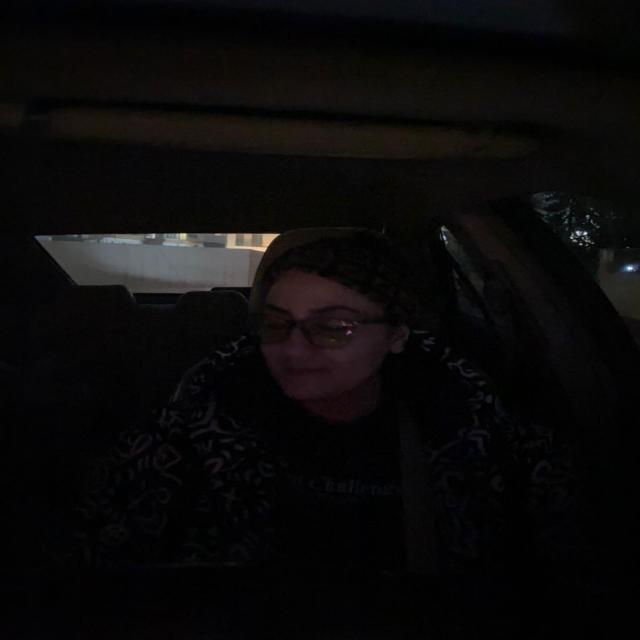drowsy: (248, 236, 412, 407)
